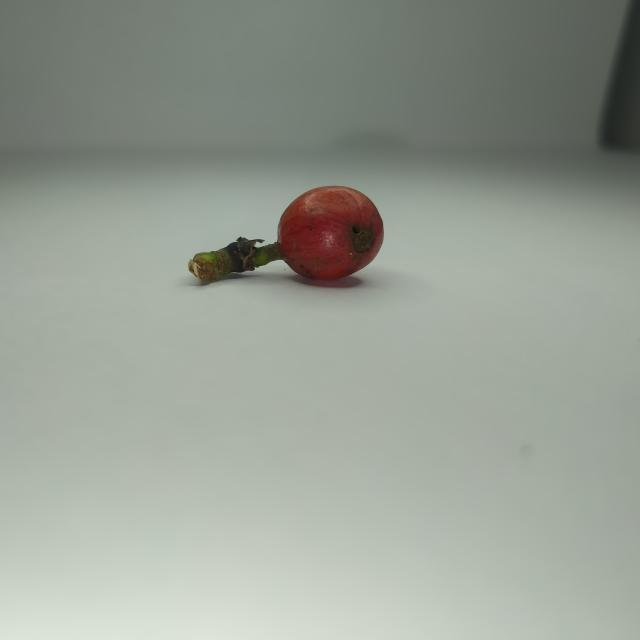Infectado: (277, 189, 383, 283)
